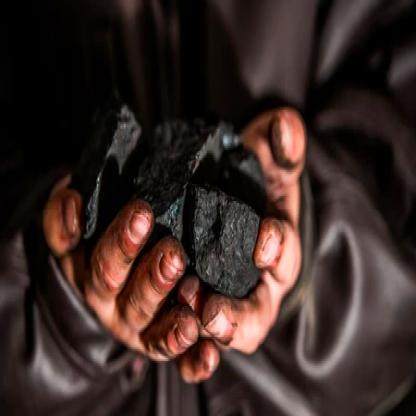Sedimentary_coal: (190, 158, 270, 308), (83, 98, 145, 263), (136, 143, 185, 258)
